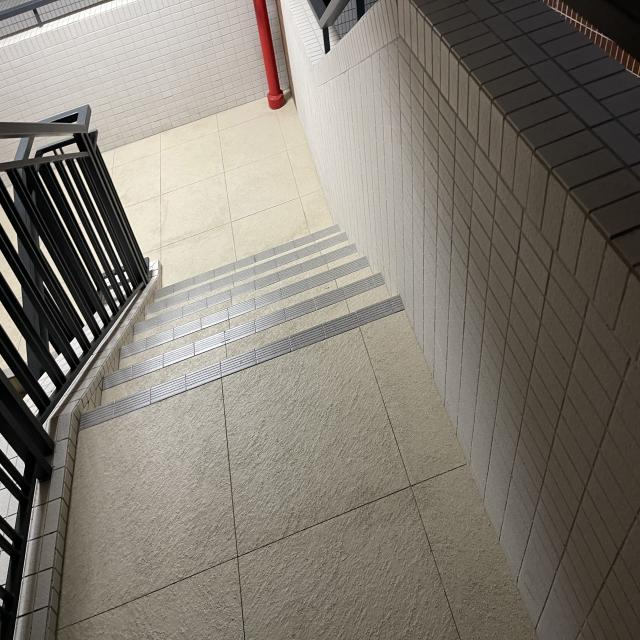Stairs: (58, 219, 444, 445)
